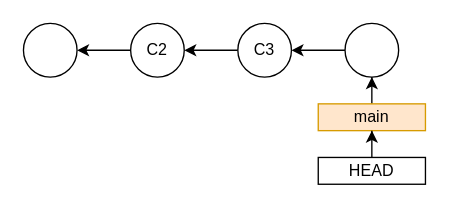
Image size: 449x208. Some labels were removed from this diagram. Here are the shapes that lost their labels. From the top down, the box of each, then its label:
(22, 22, 77, 77): C1
(344, 22, 399, 77): C4
